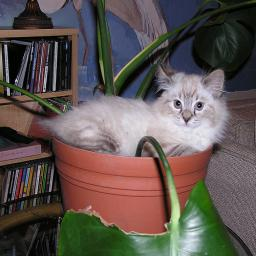catnose: (181, 111, 193, 123)
